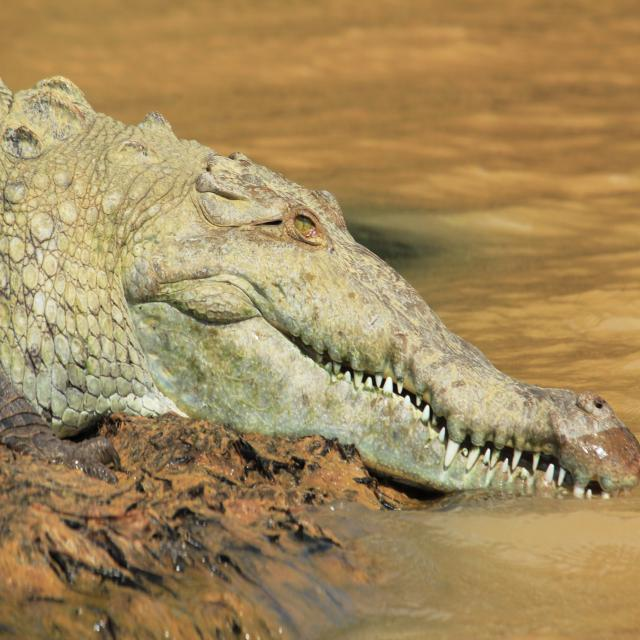crocodile: (0, 76, 640, 515)
